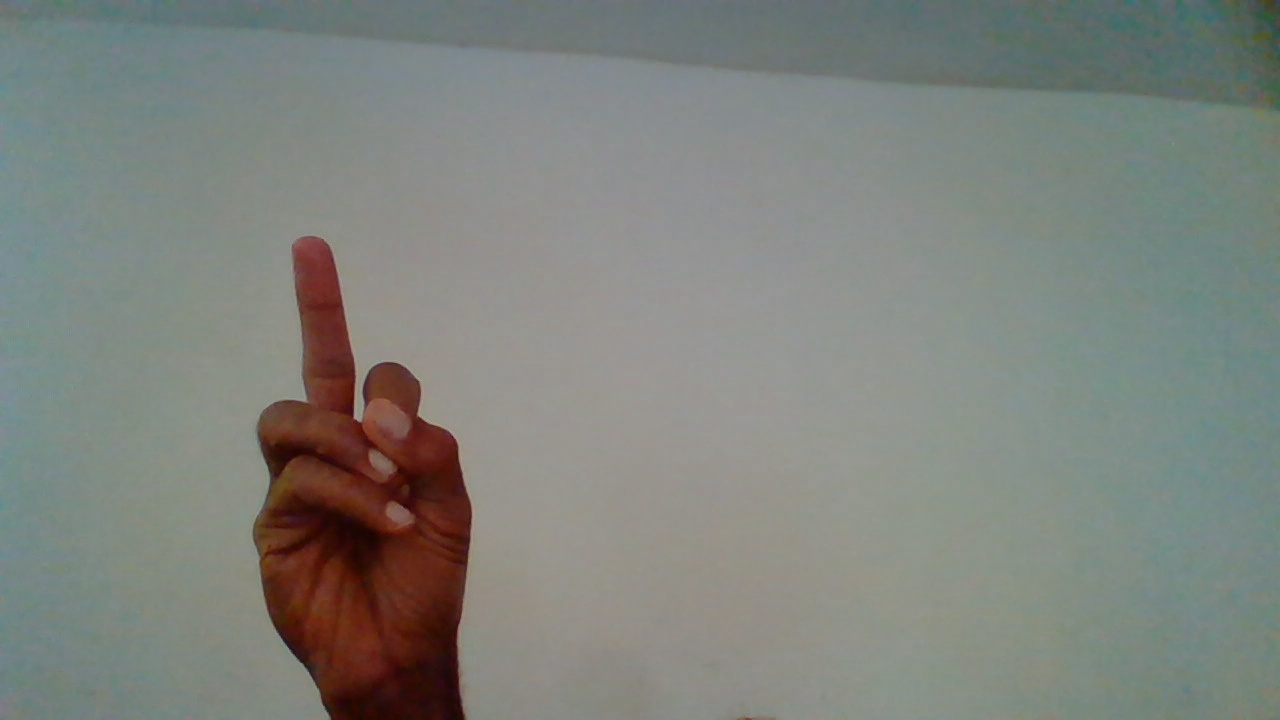he: (242, 225, 473, 716)
